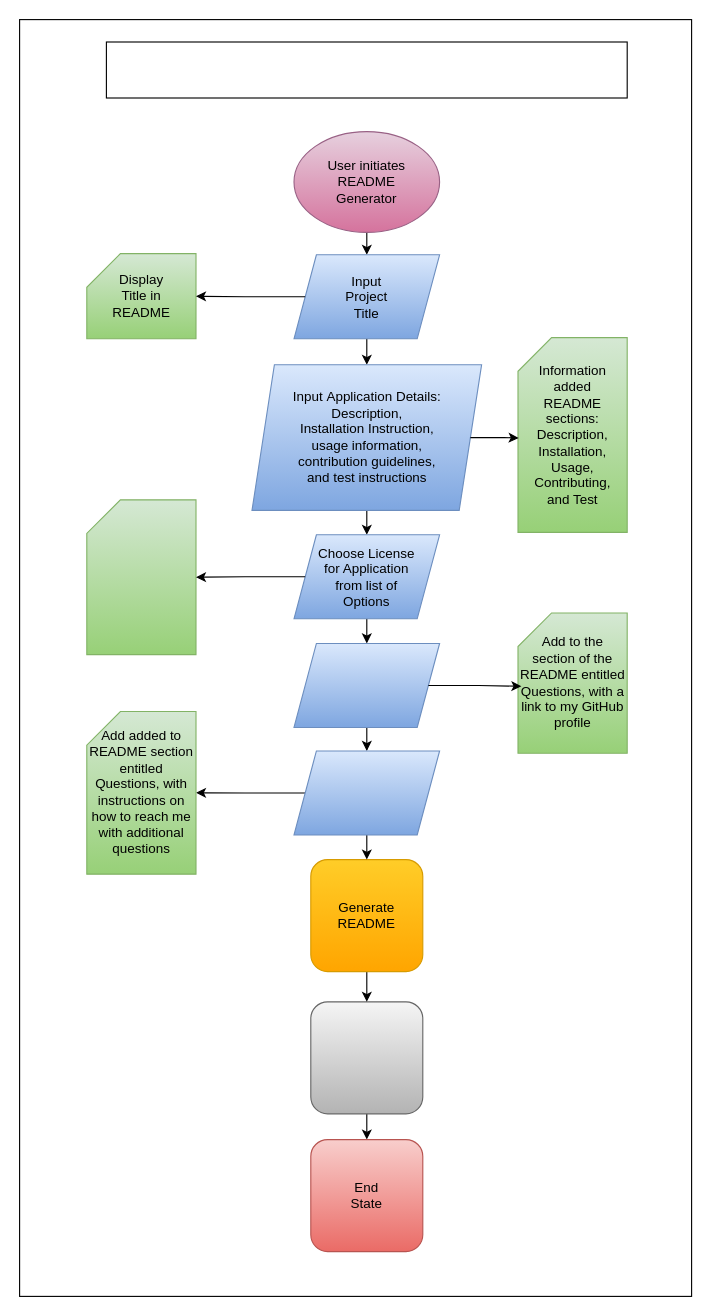
The diagram is 711 pixels wide and 1316 high, and some of its shapes have lost their labels. The shapes that lost their labels are listed below. From the top down, each one's box as (x1, y1, x2, y2) in pixels, then its label:
(105, 41, 627, 98): Readme Generator State Flow Diagram
(86, 499, 196, 655): In README Add License Badge near top, Add Notice entitled License with details
(293, 642, 440, 727): Input GitHub Username
(293, 750, 440, 835): Input Email Address
(310, 1001, 423, 1114): Table of Contents Links
